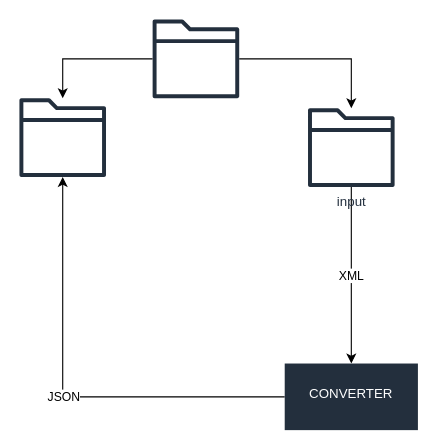
Image size: 436x448. Some labels were removed from this diagram. Each missing label, with the centre of its shape:
output: (62,137)
workflow: (195,58)
